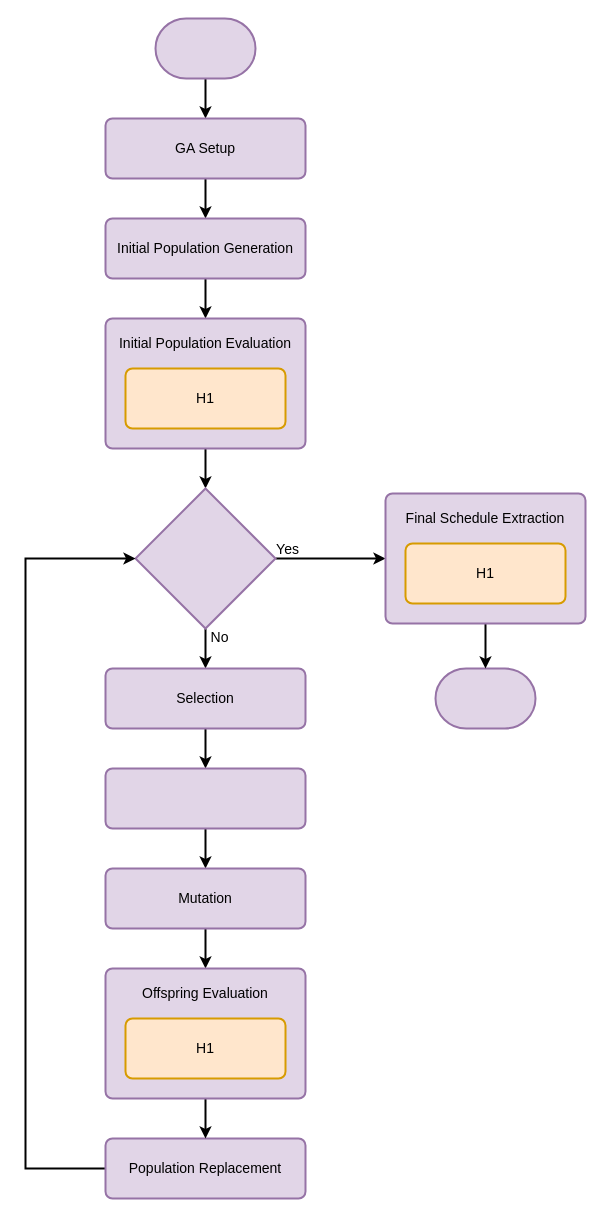
Some shapes in this 603 by 1216 pixel diagram are drawn without their labels. The box of each missing label's shape, as (x1, y1, x2, y2) in pixels:
Crossover: (104, 767, 306, 829)
GA End: (434, 667, 536, 729)
GA Start: (154, 17, 256, 79)
Termination Criteria Met?: (134, 487, 276, 629)
